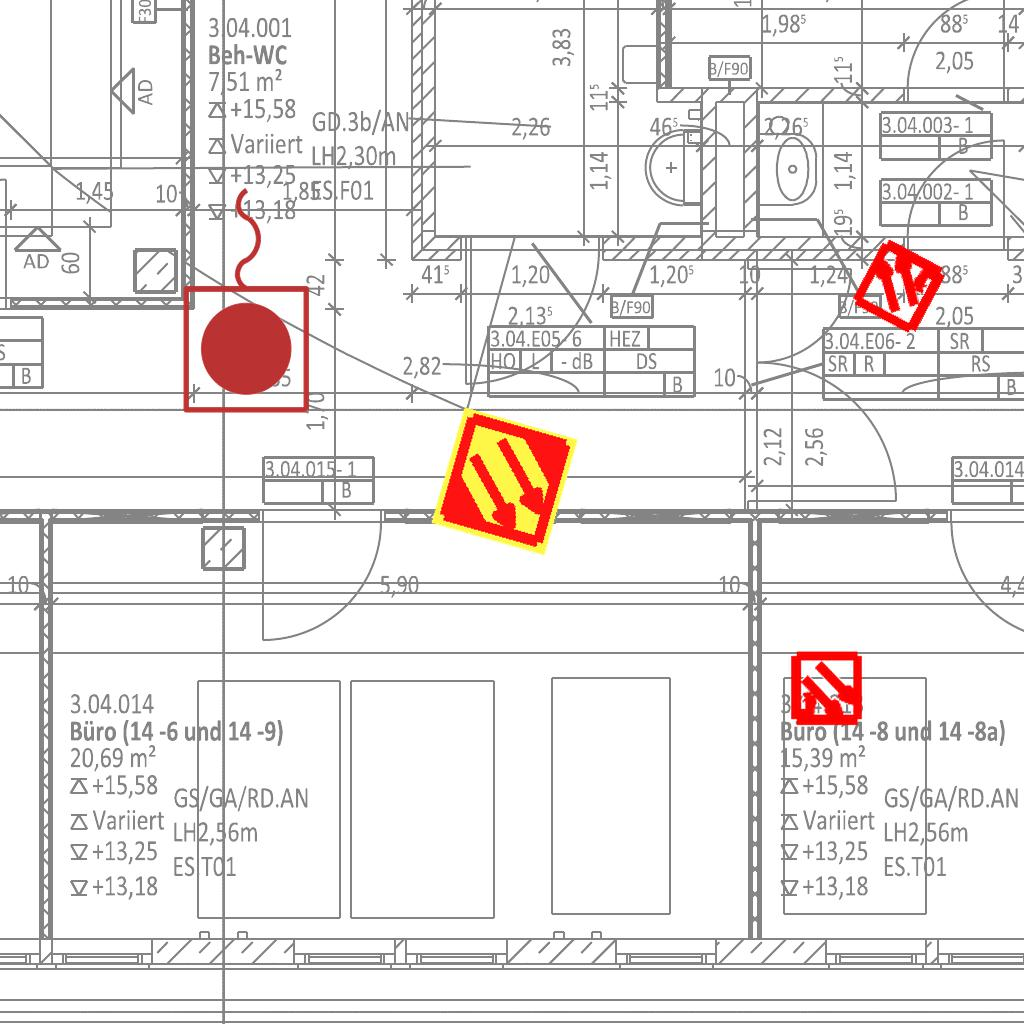ASR_Ansaugrauchmelder: (427, 404, 582, 559)
OT_Multisensormelder_(Kombination_RMO_WMD): (824, 208, 977, 361), (770, 634, 883, 747)
Zugtaster: (176, 177, 320, 421)
